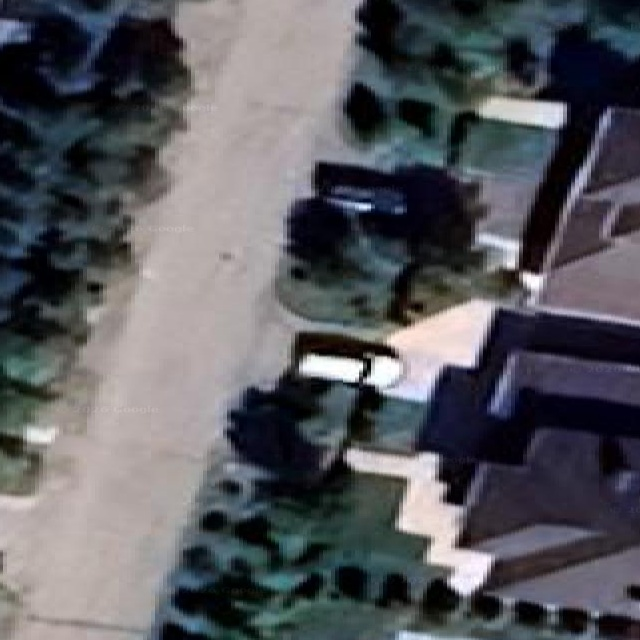car: (292, 332, 403, 388)
